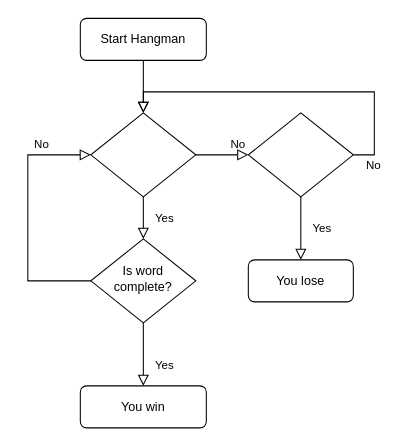
The diagram is 403 pixels wide and 446 high, and some of its shapes have lost their labels. The shapes that lost their labels are listed below. From the top down, each one's centre as x and y in pixels, then its label:
[143,154]: Is guess correct?
[300,154]: Is out of guesses?
